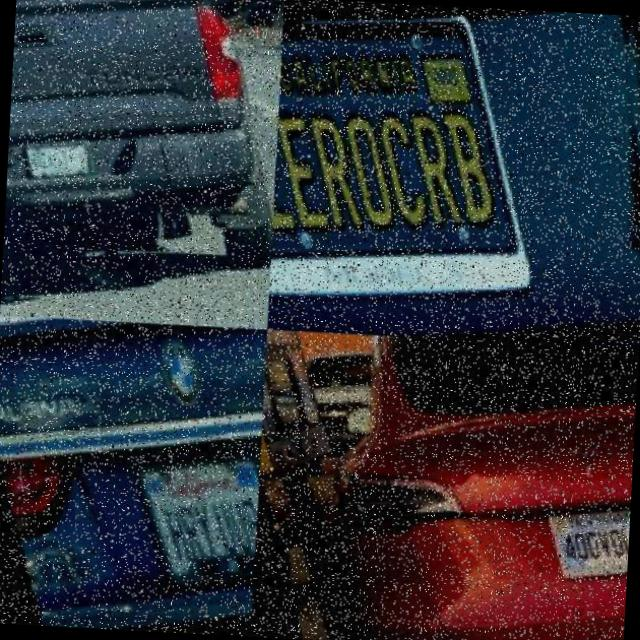LicensePlate: (267, 0, 550, 343), (126, 431, 262, 591), (542, 499, 631, 573), (13, 132, 88, 174)
